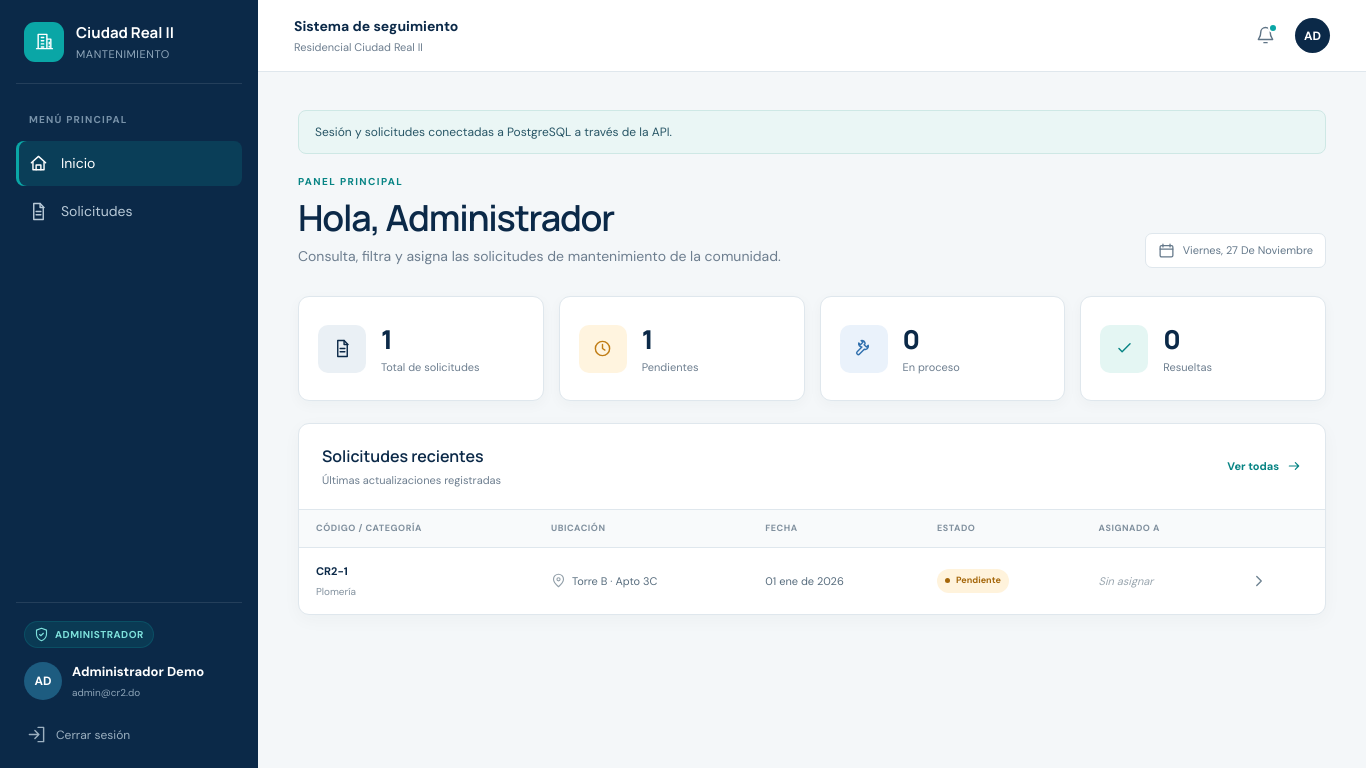
Test case: la asignación se guarda en la API y conserva el estado
Click the button "Solicitudes".
click(129, 212)  # box [16,189,242,234]
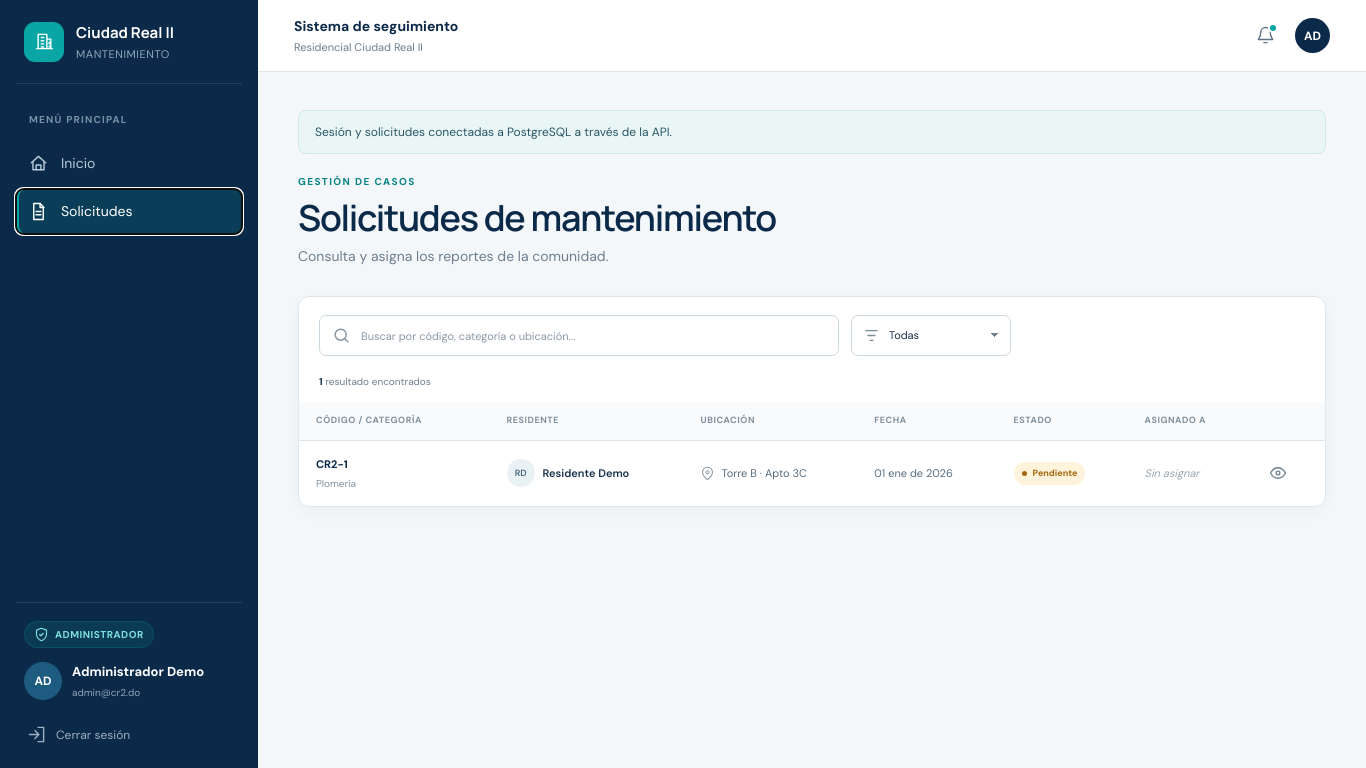
Click the button named "Ver CR2-1".
click(1278, 473)  # box [1263,458,1293,488]
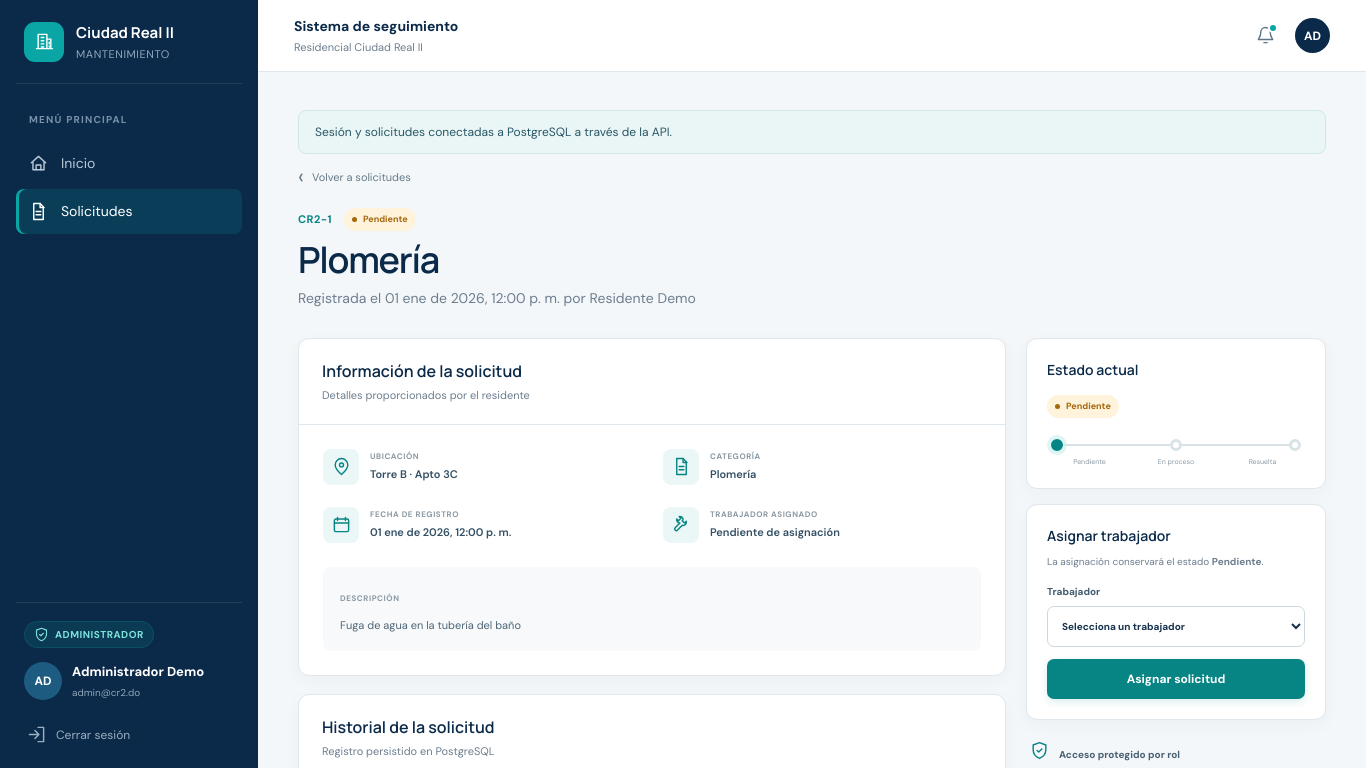
Select "Técnico de API" in the dropdown at (1176, 626), box [1047,606,1305,647]
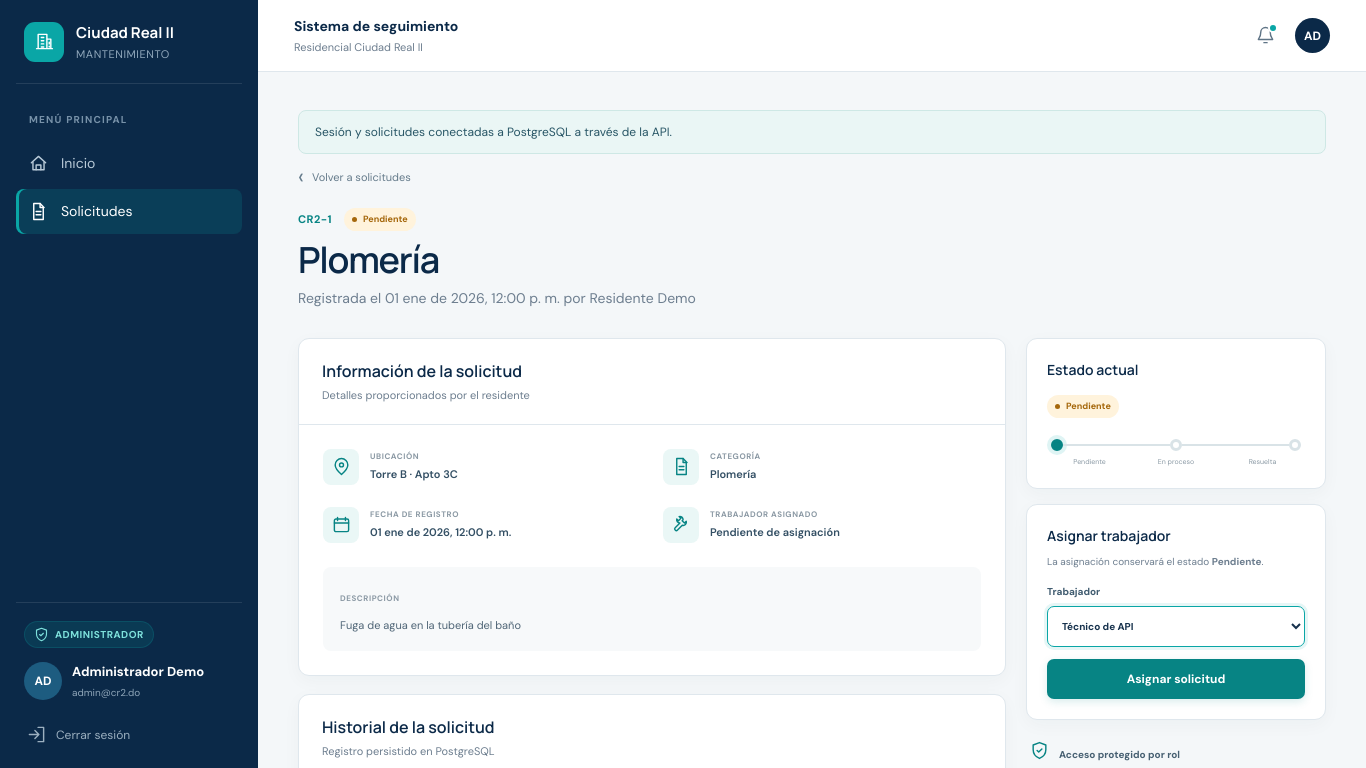
Click the button "Asignar solicitud".
click(1176, 679)  # box [1047,659,1305,699]
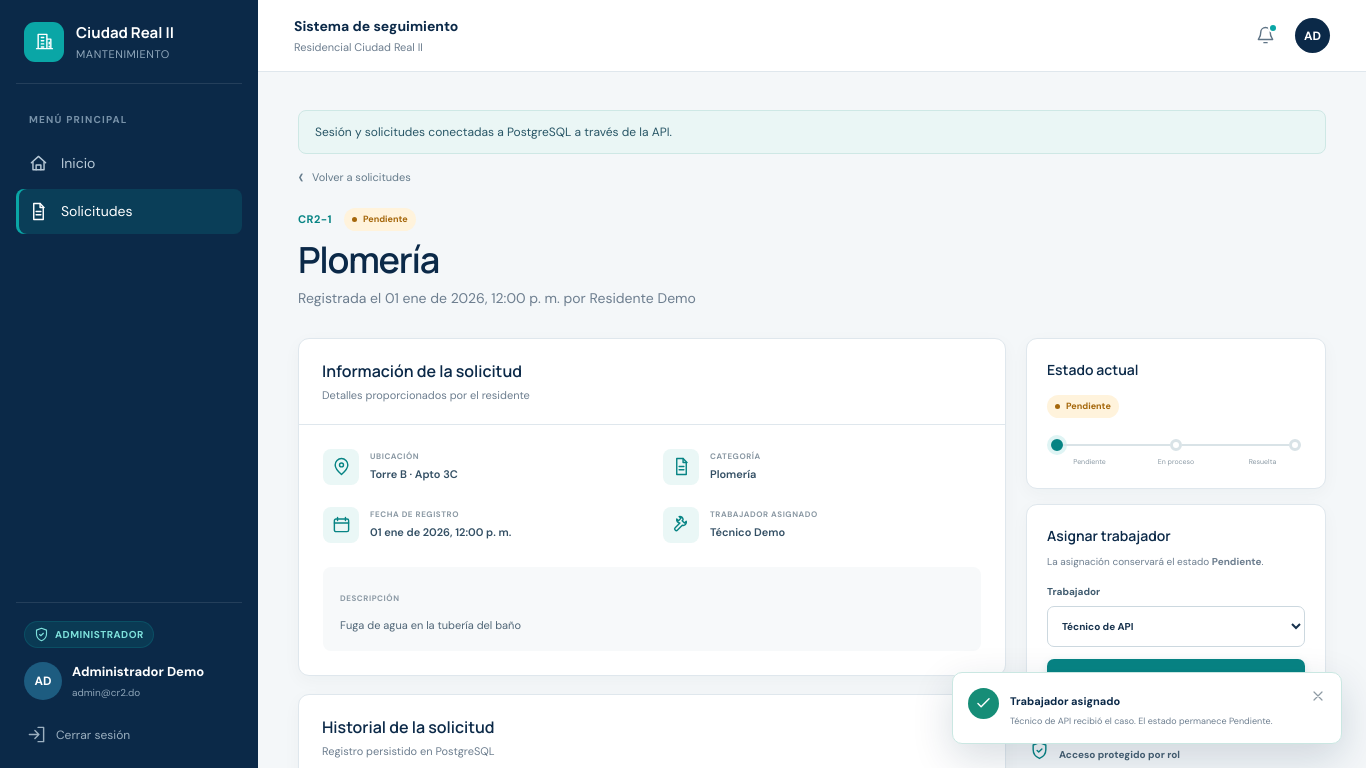
Expected: the text "El estado permanece Pendiente" is shown, [1010,715,1272,727]
